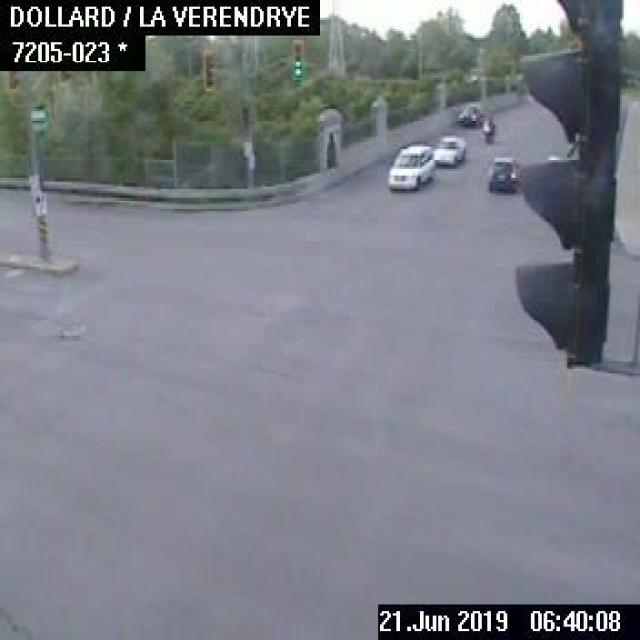vehicle: (386, 139, 434, 189), (486, 153, 518, 191), (431, 132, 464, 168), (455, 102, 484, 122), (480, 115, 495, 143)
